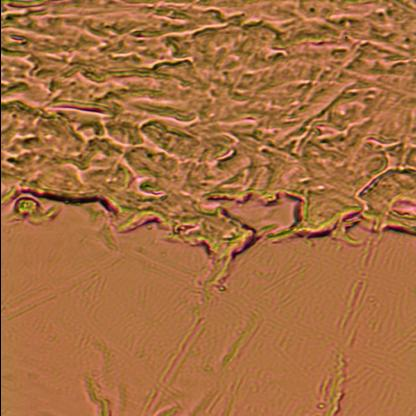Stage III: (0, 0, 416, 247)
